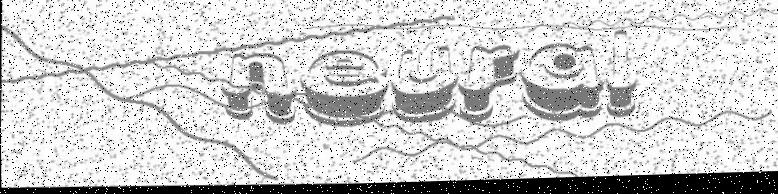a: (514, 38, 606, 122)
e: (297, 43, 389, 127)
l: (604, 28, 642, 122)
n: (216, 45, 300, 126)
r: (458, 40, 520, 126)
u: (389, 43, 459, 121)
